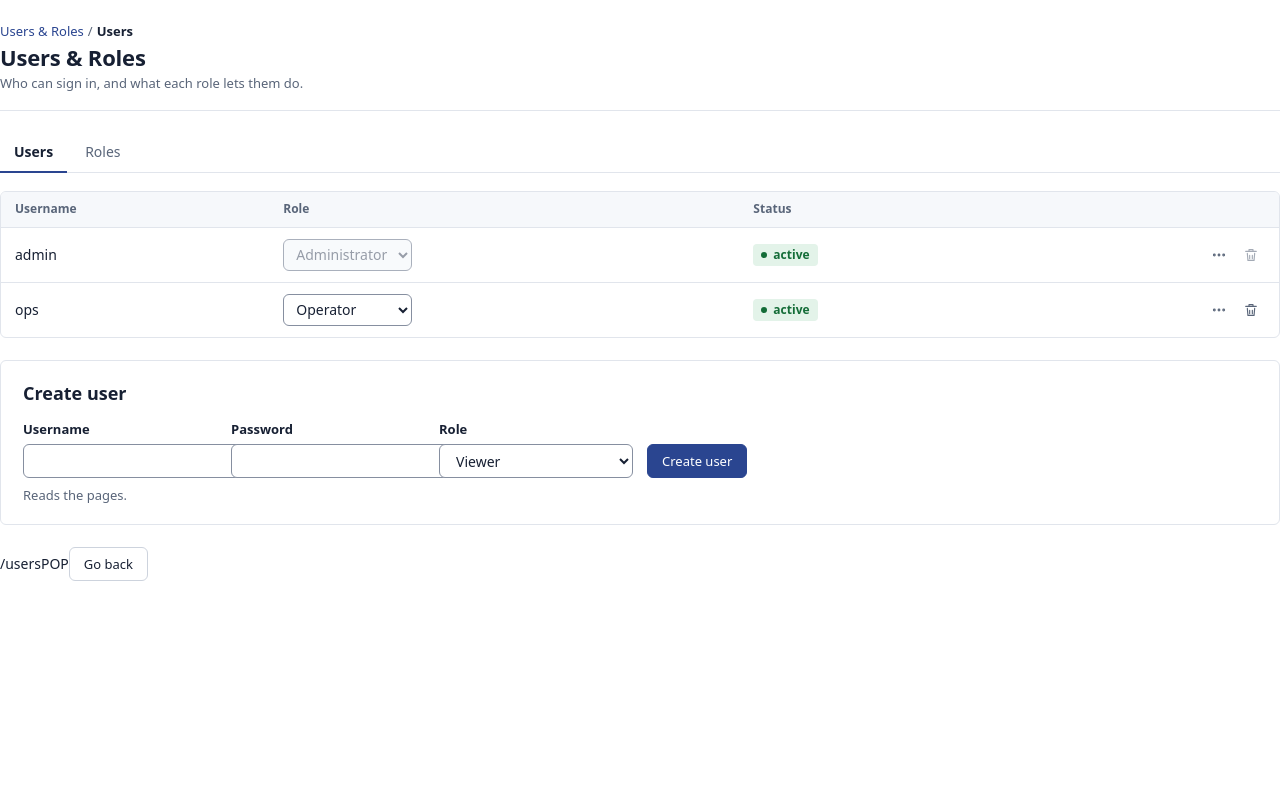
Test: UsersPage: the shell of Users & Roles › after a user is deleted the h1 takes the focus (the row and its Delete button are gone)
The width and height of the screenshot is (1280, 800).
Click the button named "Delete ops": (1251, 310) x1=1237 y1=296 x2=1265 y2=324
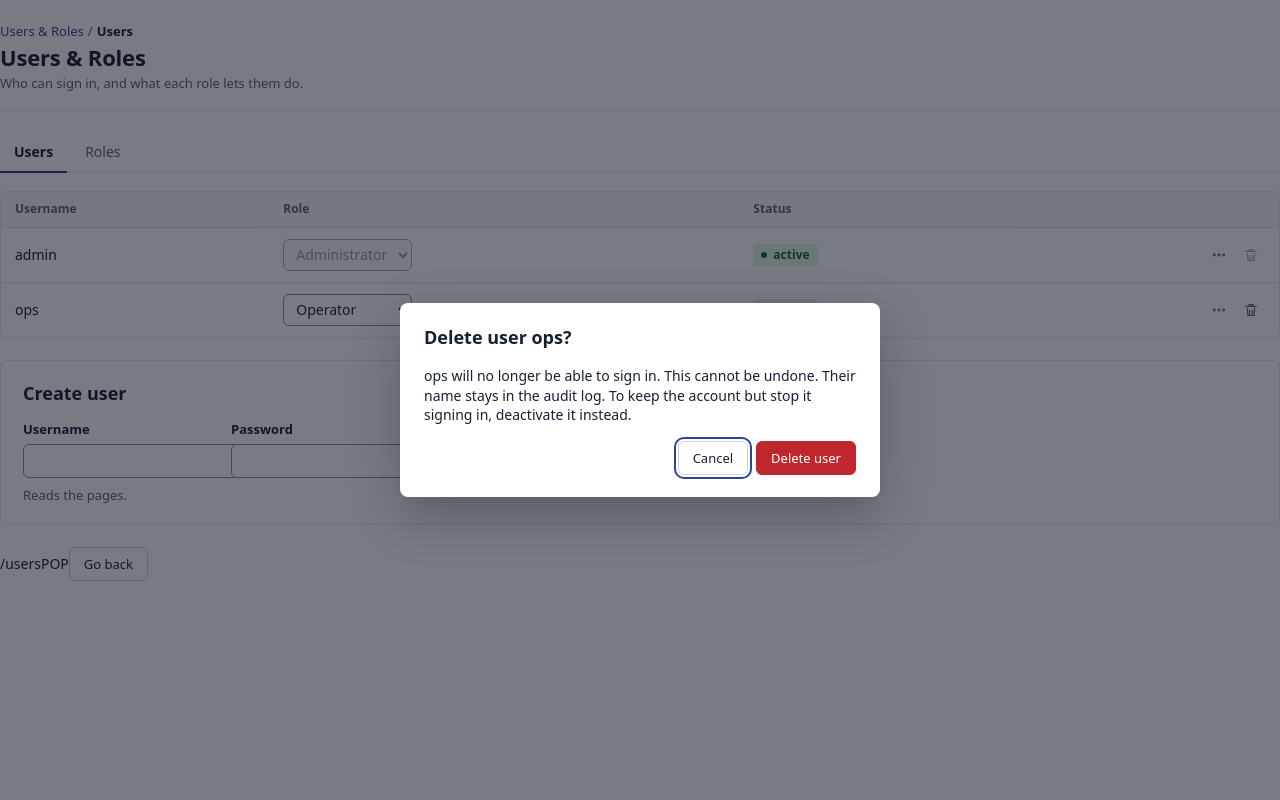
Click the button "Delete user": (806, 458) x1=756 y1=441 x2=856 y2=475
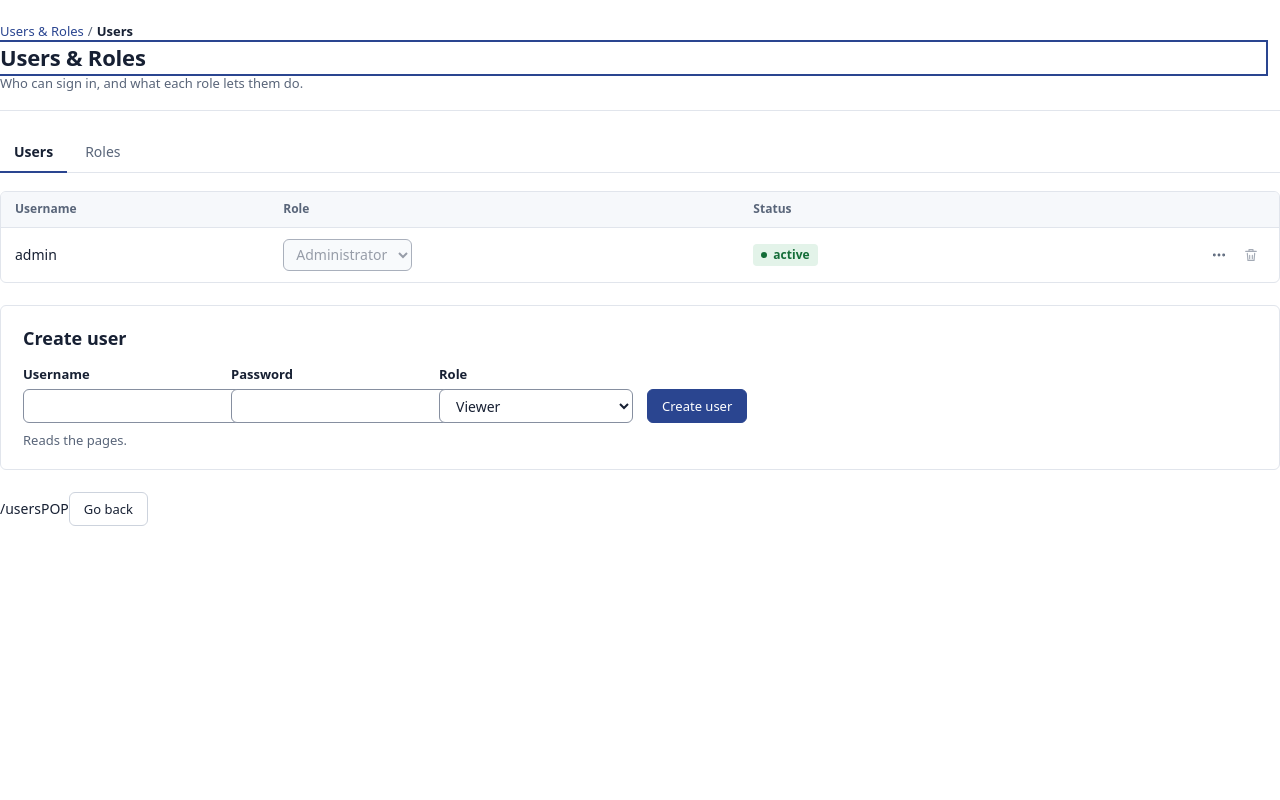
expect the text "ops" is gone: met
